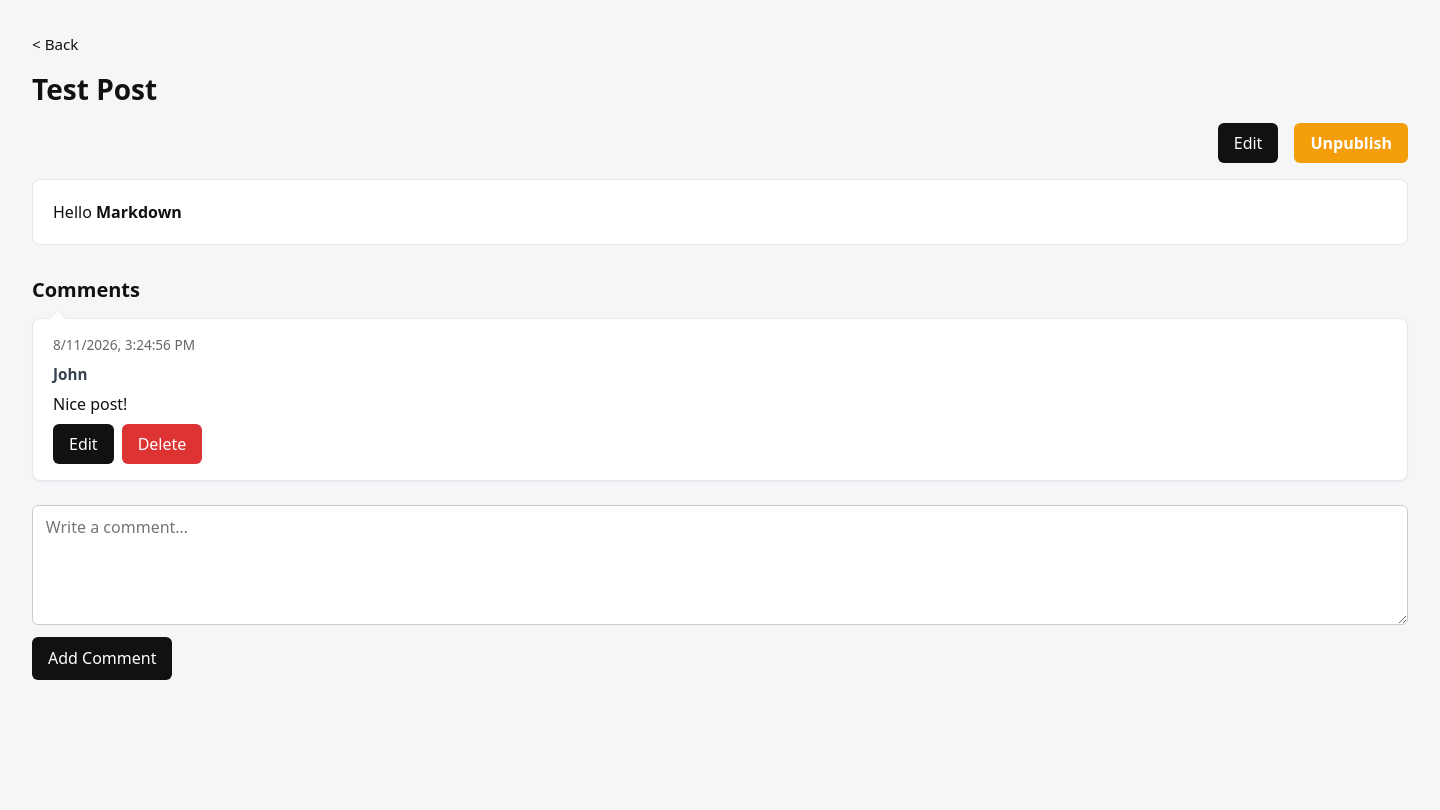
Test case: PostDetail page › allows editing the post
The image size is (1440, 810).
Step 1. Click the 1st button "Edit" → (1248, 143), box [1218,123,1278,163]
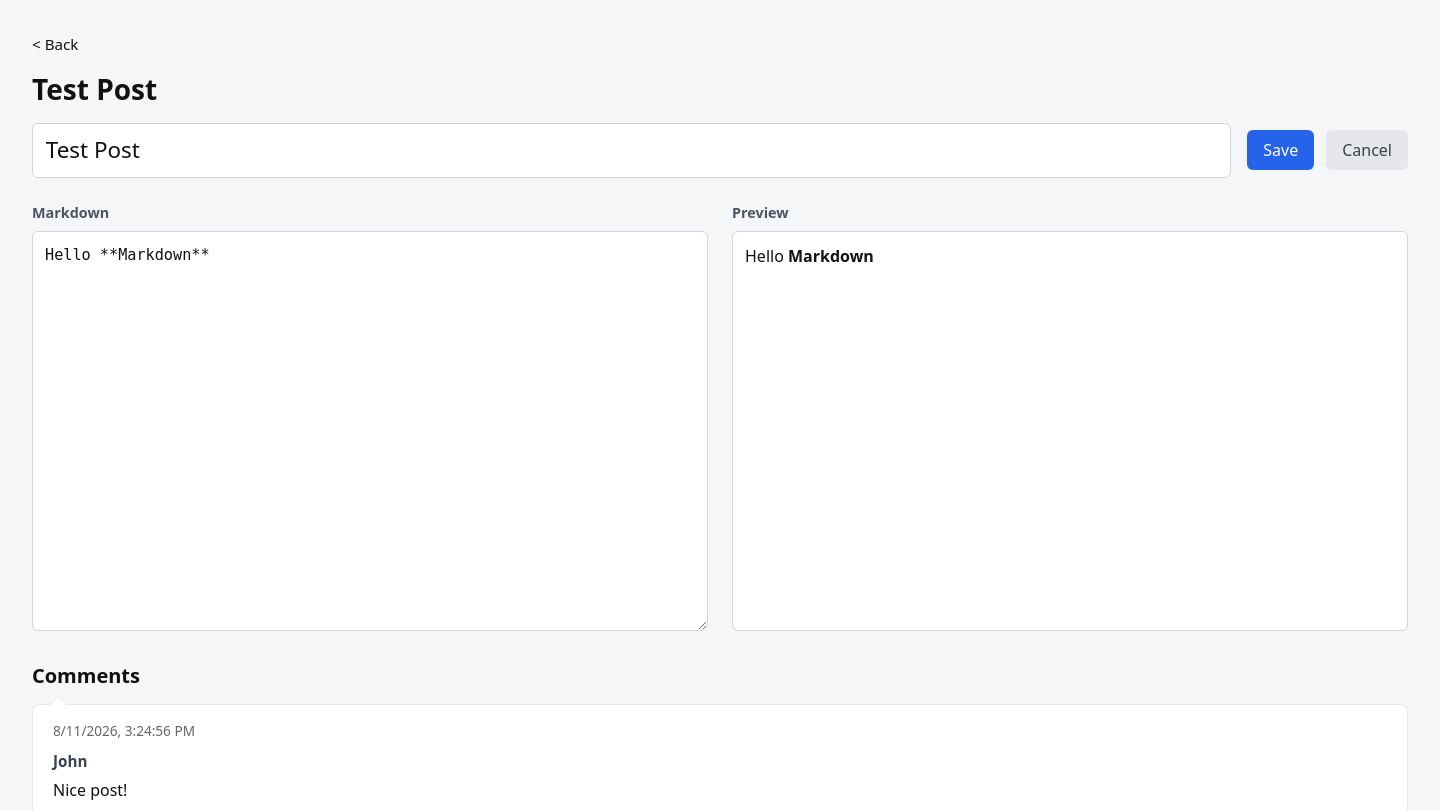
Step 2. Replace the text in the field showing "test post" with "Updated Title" → (632, 150), box [32,123,1231,178]
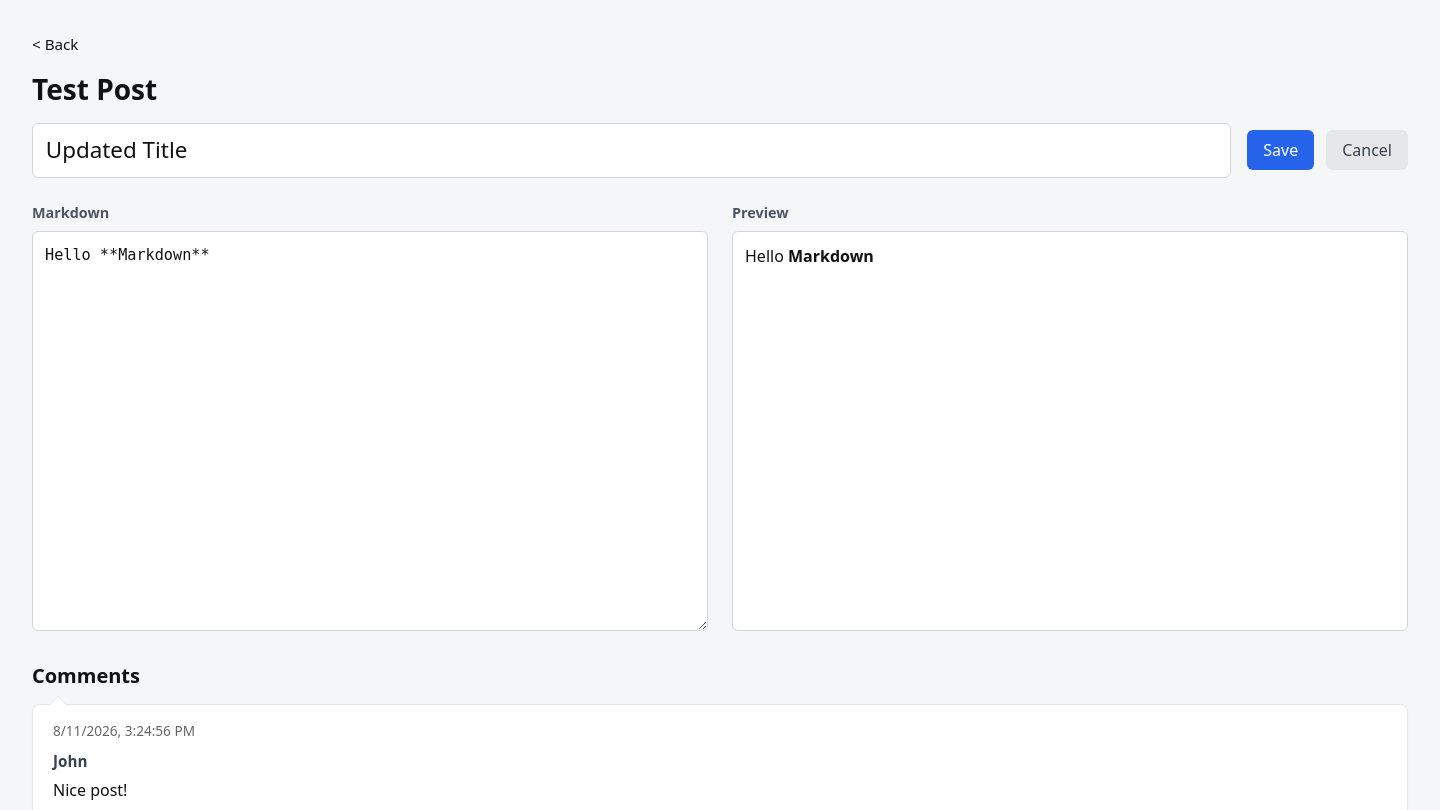
Step 3. Click the button "Save" → (1281, 150), box [1247,130,1314,170]
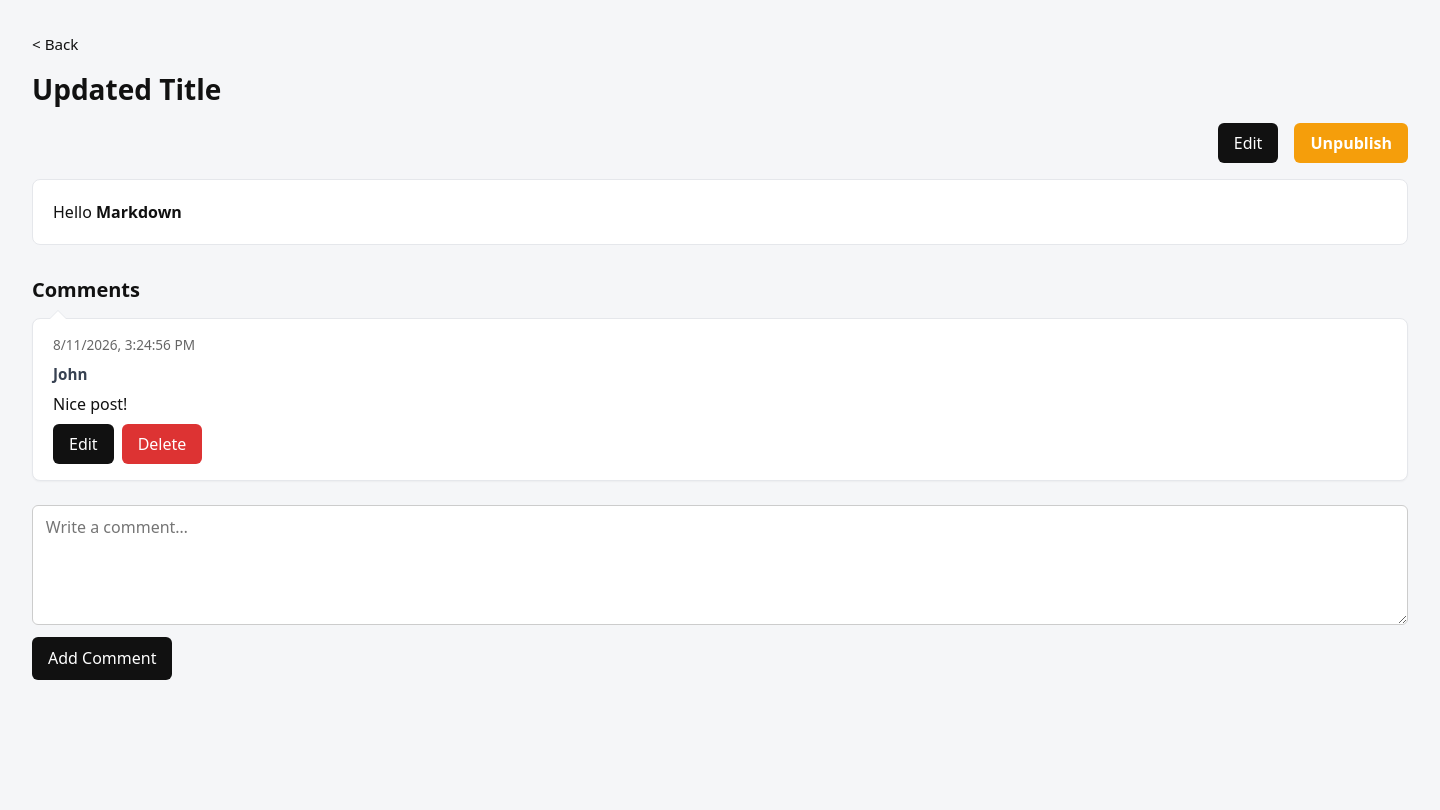
Expected: the heading "Updated Title" is shown, [32,70,221,108]
